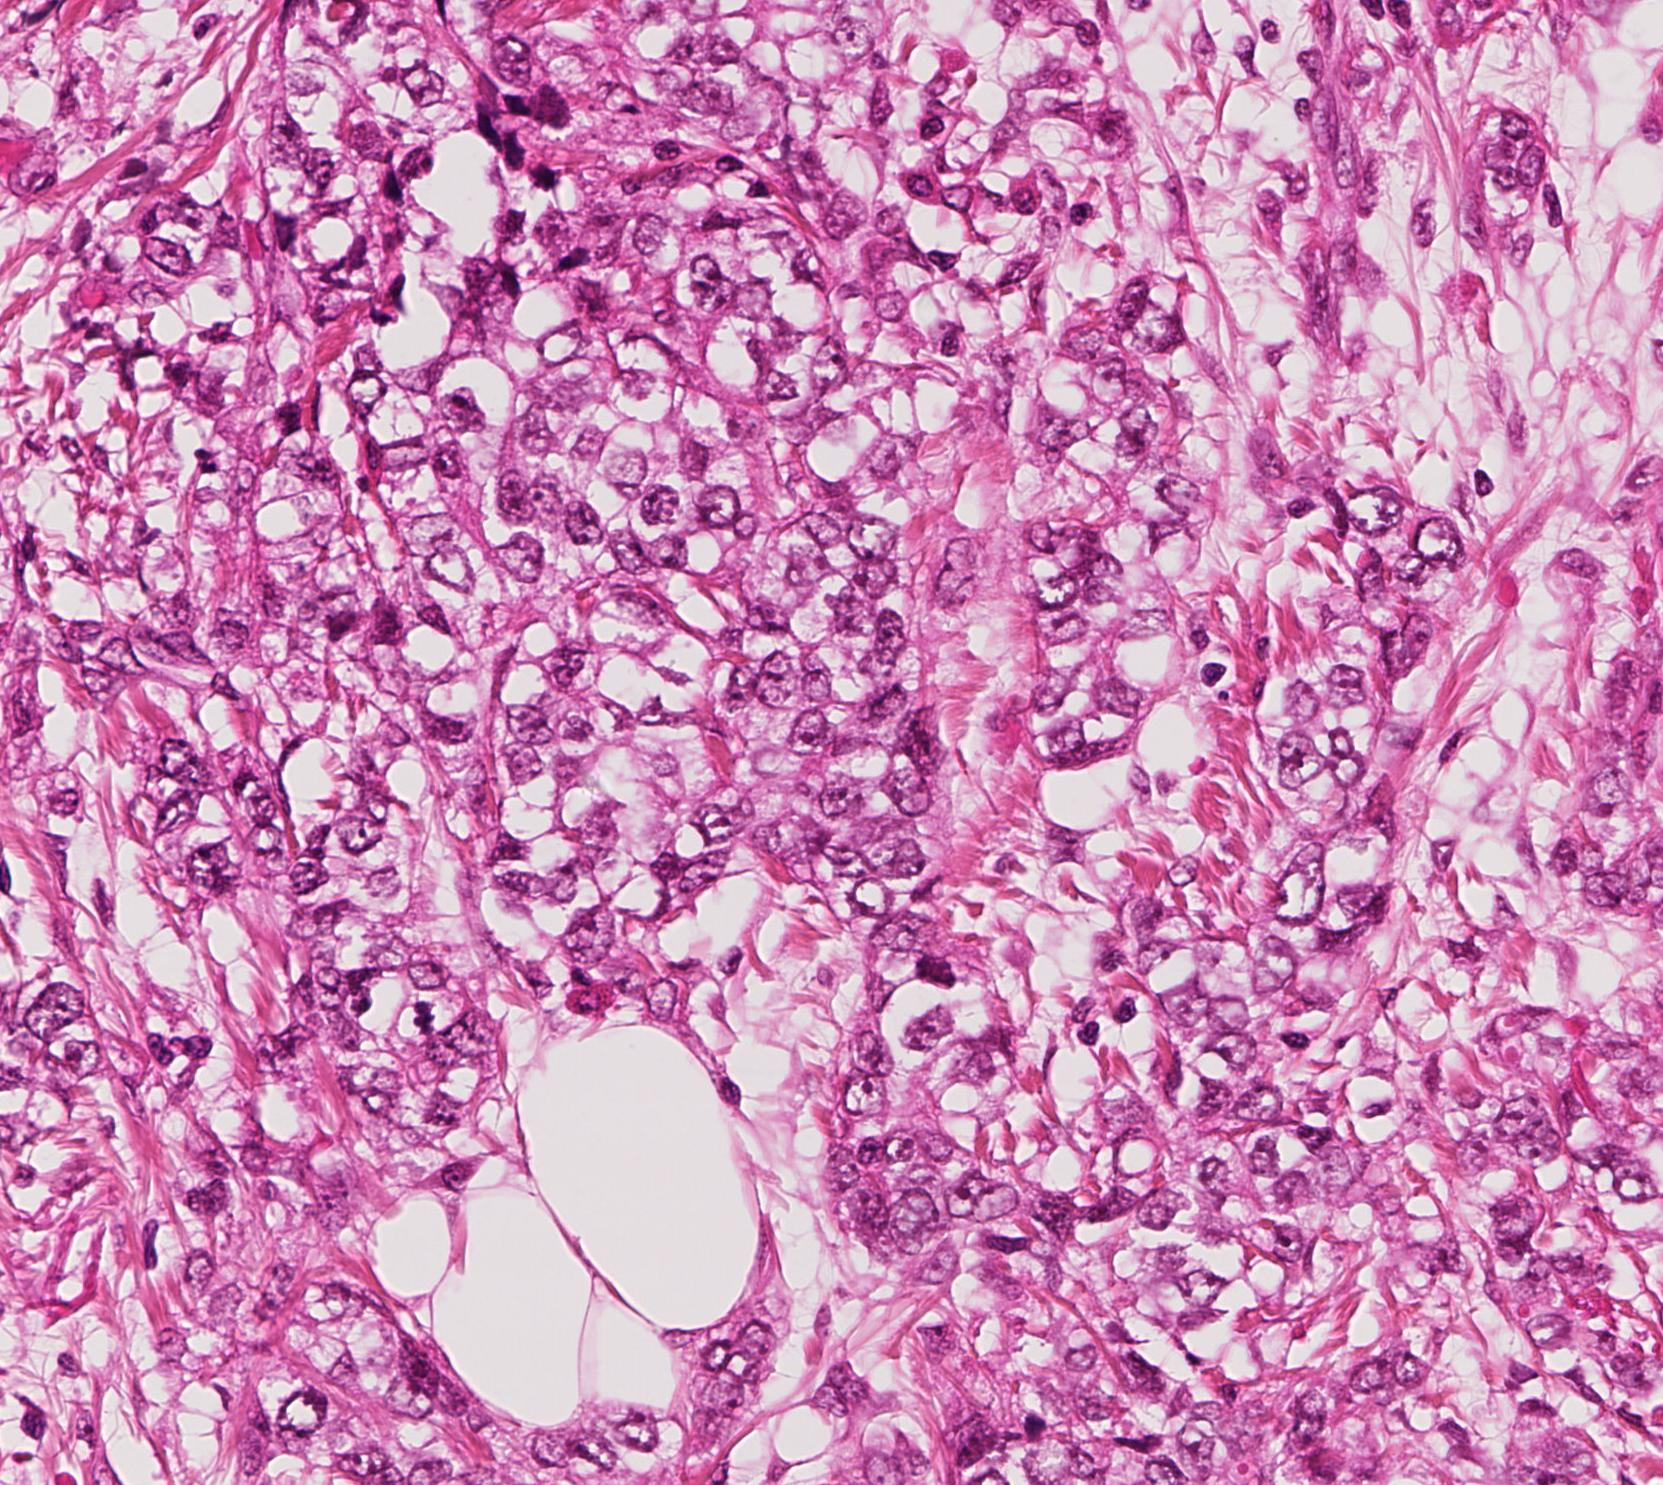mitosis: (337, 588, 397, 648)
